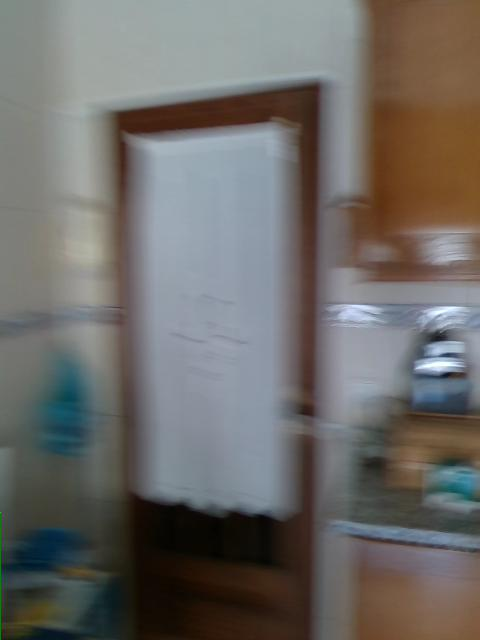door: (109, 86, 321, 639)
